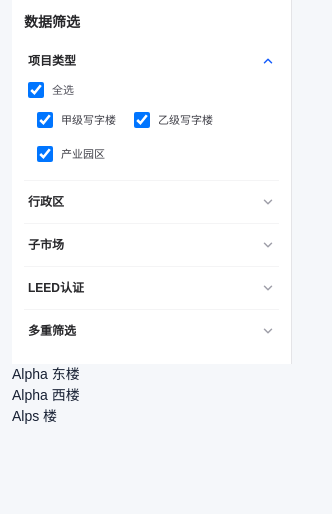
it: DebugFilter › retains the text filter focus and caret after matching rows refresh
Click the text "多重筛选" at (52, 330), box [28, 322, 76, 340]
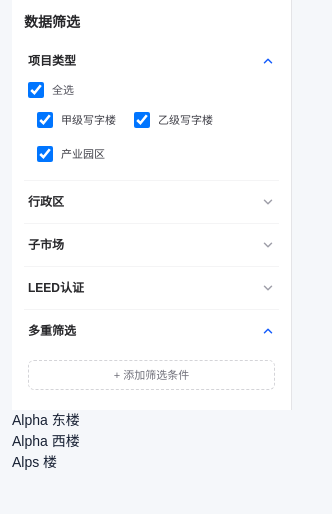
Click the button "+ 添加筛选条件" at (152, 375), box [28, 360, 275, 390]
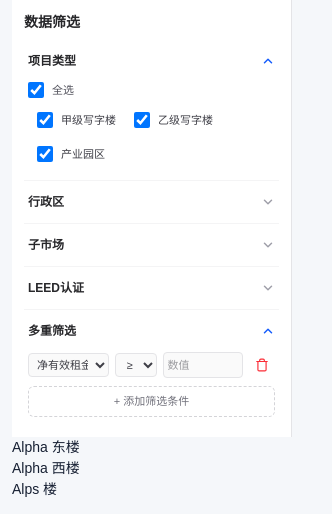
Select "项目业主" in the 1st dropdown at (68, 365), box [28, 353, 108, 377]
Type "A" into the field with placeholder "模糊搜索" at (203, 365), box [162, 352, 243, 378]
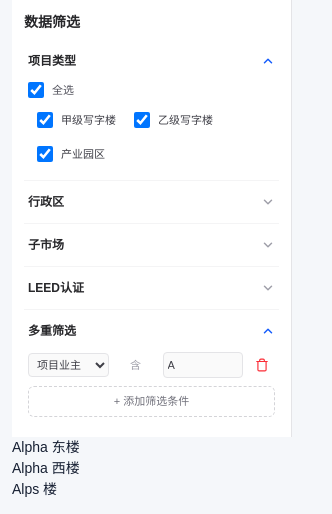
Replace the text in the field with placeholder "模糊搜索" with "Alpa" at (203, 365), box [162, 352, 243, 378]
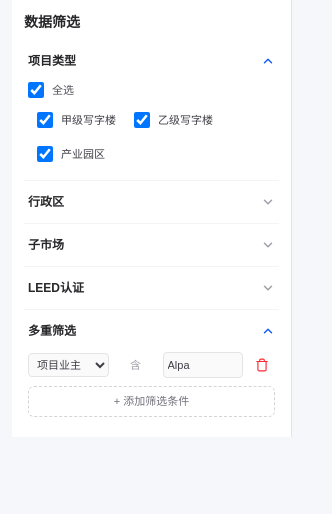
Check: the list item "Alpha 东楼" is gone
Replace the text in the field with placeholder "模糊搜索" with "Alpha" at (203, 365), box [162, 352, 243, 378]
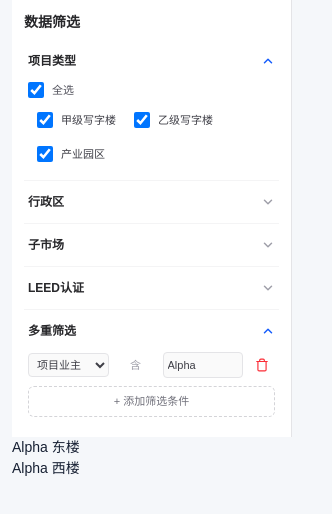
Check: the list item "Alps 楼" is not shown
Check: the list item "Alpha 东楼" is shown, box [12, 438, 80, 454]
Clear the field with placeholder "模糊搜索" at (203, 365), box [162, 352, 243, 378]
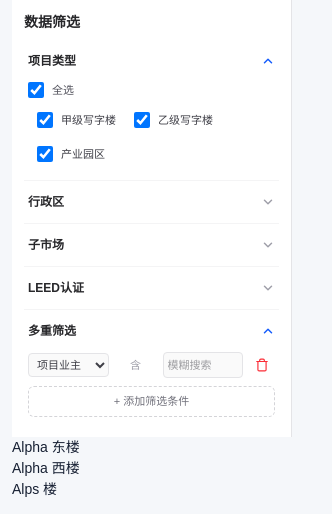
Check: the list item "Alps 楼" is shown, box [12, 480, 57, 496]
